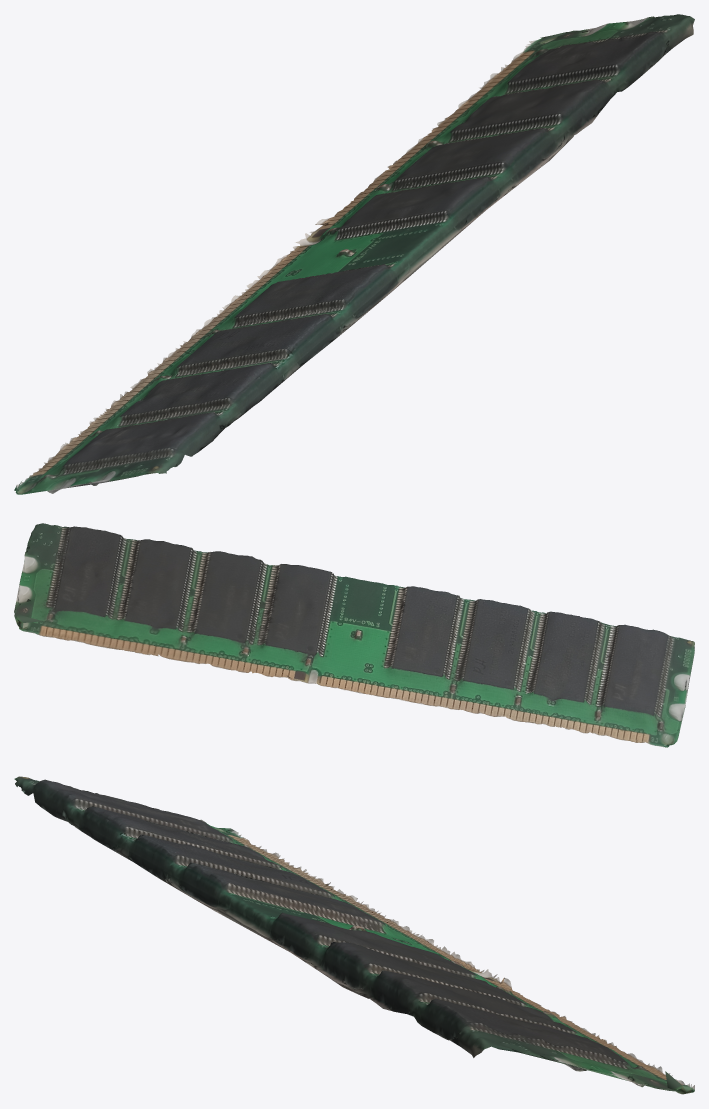
File: RAM2FBX.fbx
3 views of the same model, one above another, from view 1: azimuth 30°, elevation 25°; view 2: azimuth 150°, elevation 25°; view 3: azimuth 270°, elevation 25° (orthographic). The views are drawn at different scales.
Parts seen in each view (by area): view 1: Group_Global; view 2: Group_Global; view 3: Group_Global.
Part boxes in pixels (x1,y1,x2,y2): Group_Global: [14, 14, 694, 494]; Group_Global: [14, 523, 694, 747]; Group_Global: [14, 776, 694, 1094].
Bounding box in the file's own units: 931 × 230 × 583.
